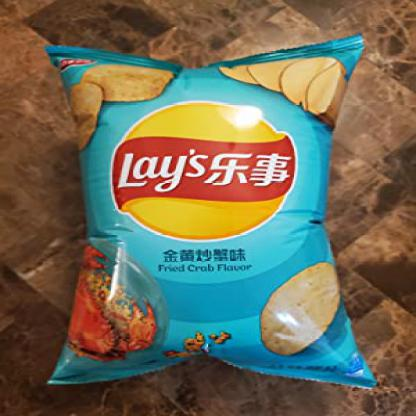potatochip: (36, 27, 389, 396)
